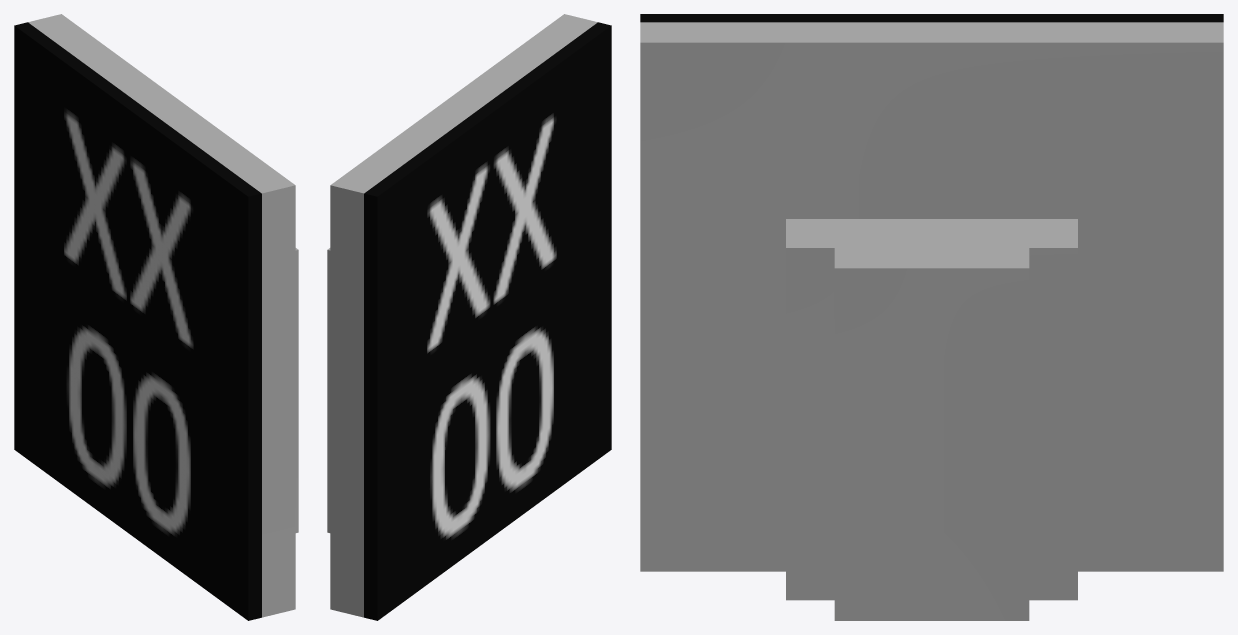
Rendered from signal_plate.obj.
3 views of the same model, side by side, from view 1: azimuth 30°, elevation 25°; view 2: azimuth 150°, elevation 25°; view 3: azimuth 270°, elevation 25° (orthographic). The views are drawn at different scales.
Visible parts, largest first — view 1: cube; view 2: cube; view 3: cube.
Boxes of the visible parts, box(x1,y1,x2,y2) form: cube: box(14, 14, 298, 620); cube: box(327, 14, 611, 620); cube: box(640, 14, 1223, 620).
Bounding box in the file's own units: 0.0594 × 0.1875 × 0.1875.
Materials: 2 (2 with a texture image).
